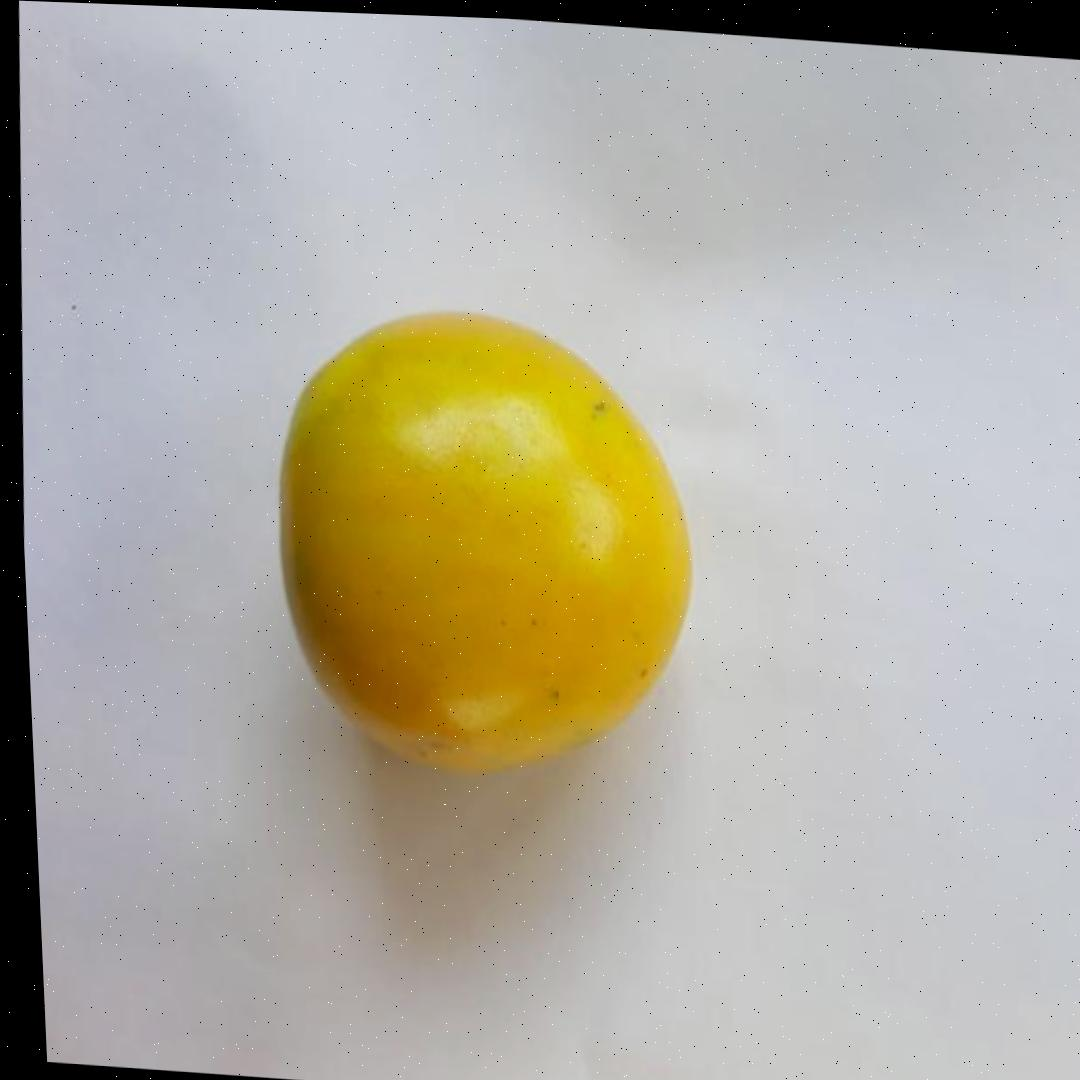setengah_matang: (258, 294, 713, 792)
